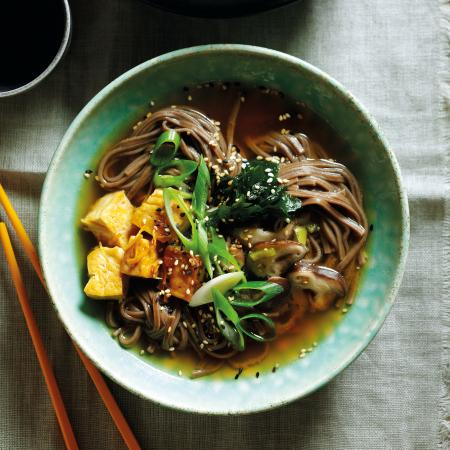Soba: (123, 97, 368, 273)
